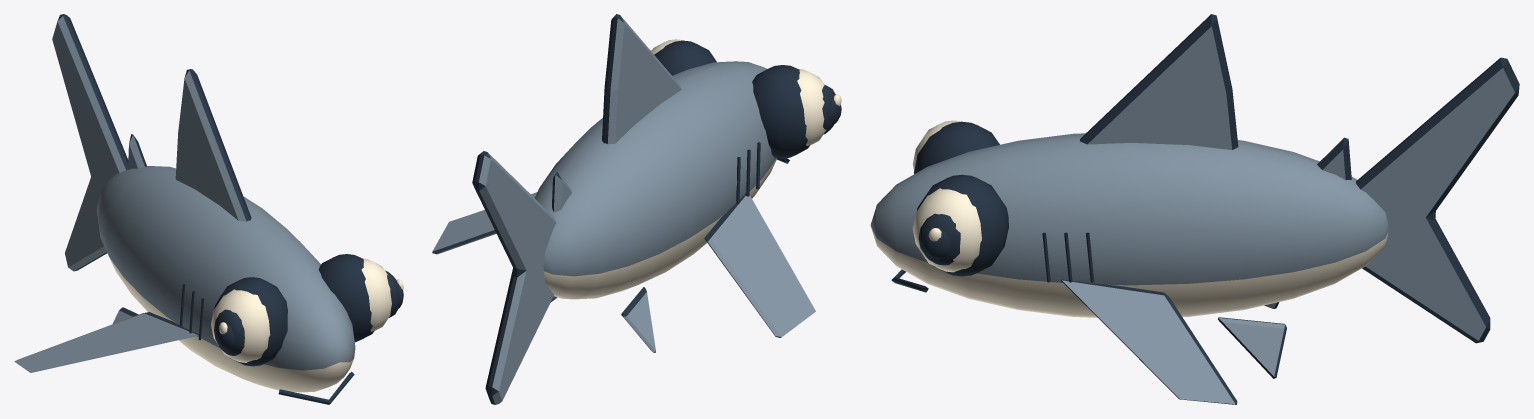
File: shark-low.glb
3 renders of one model, left to right at view 1: azimuth 30°, elevation 25°; view 2: azimuth 150°, elevation 25°; view 3: azimuth 270°, elevation 25°, orthographic. The views are drawn at different scales.
Visible parts, largest first — view 1: BodyMesh, TailMesh; view 2: BodyMesh, TailMesh; view 3: BodyMesh, TailMesh.
Boxes of the visible parts, box(x1,y1,x2,y2) form: BodyMesh: box(14, 69, 403, 404); TailMesh: box(52, 14, 128, 271); BodyMesh: box(432, 14, 841, 352); TailMesh: box(472, 151, 556, 404); BodyMesh: box(870, 14, 1388, 404); TailMesh: box(1356, 57, 1519, 343).
Bounding box in the file's own units: 1.92 × 1.5 × 2.69.
